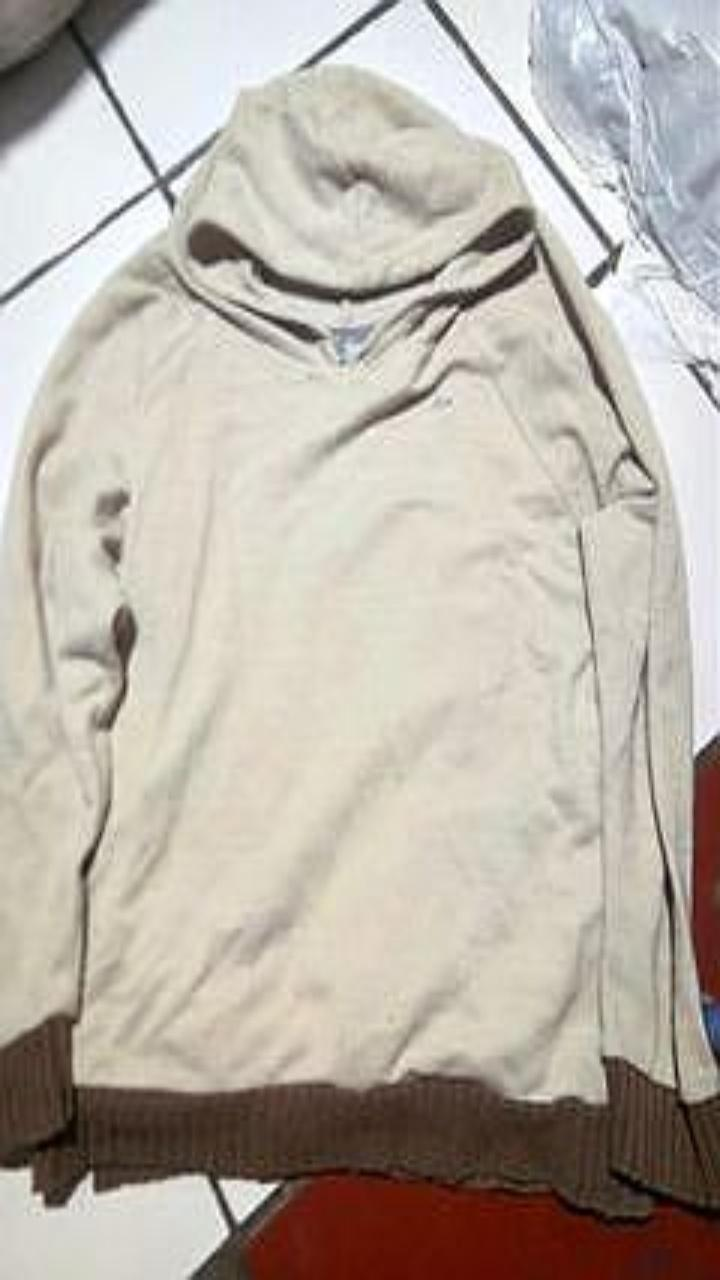Hoodie: (0, 64, 719, 1216)
